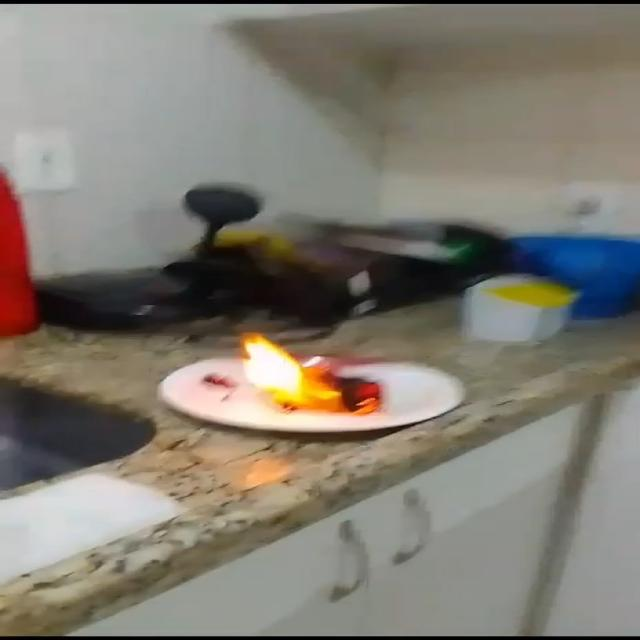fogo-ypXI: (238, 331, 386, 416)
